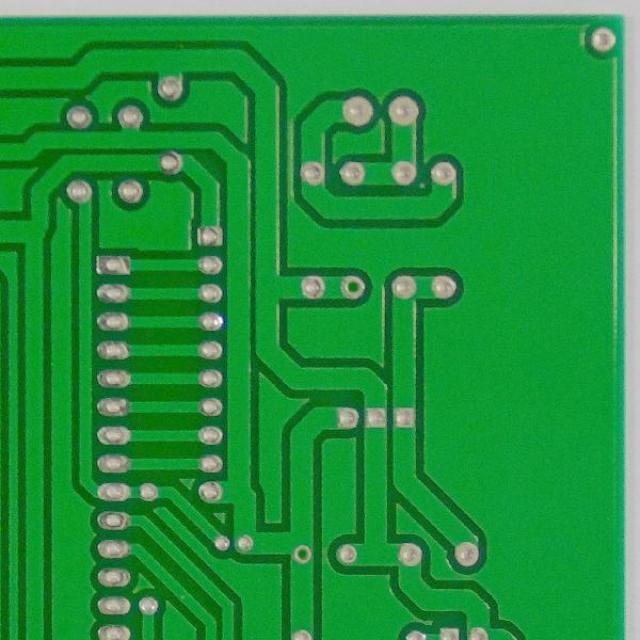Missing_Hole: (338, 274, 368, 301), (290, 544, 314, 565)
